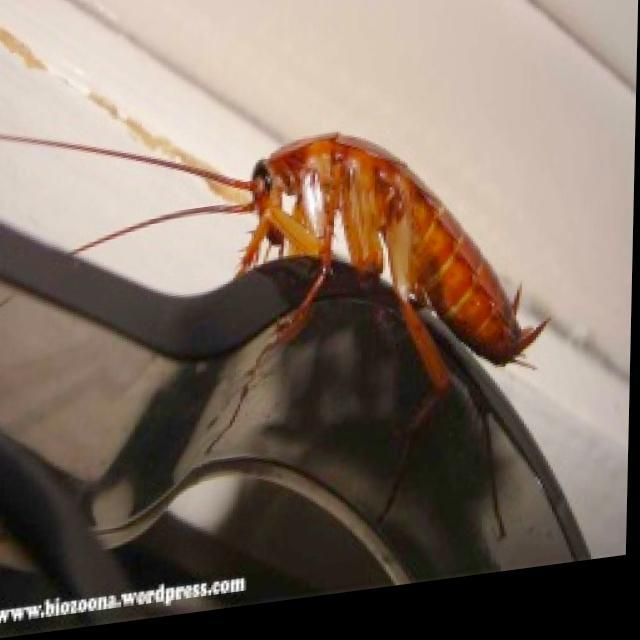cockroach: (245, 130, 552, 373)
